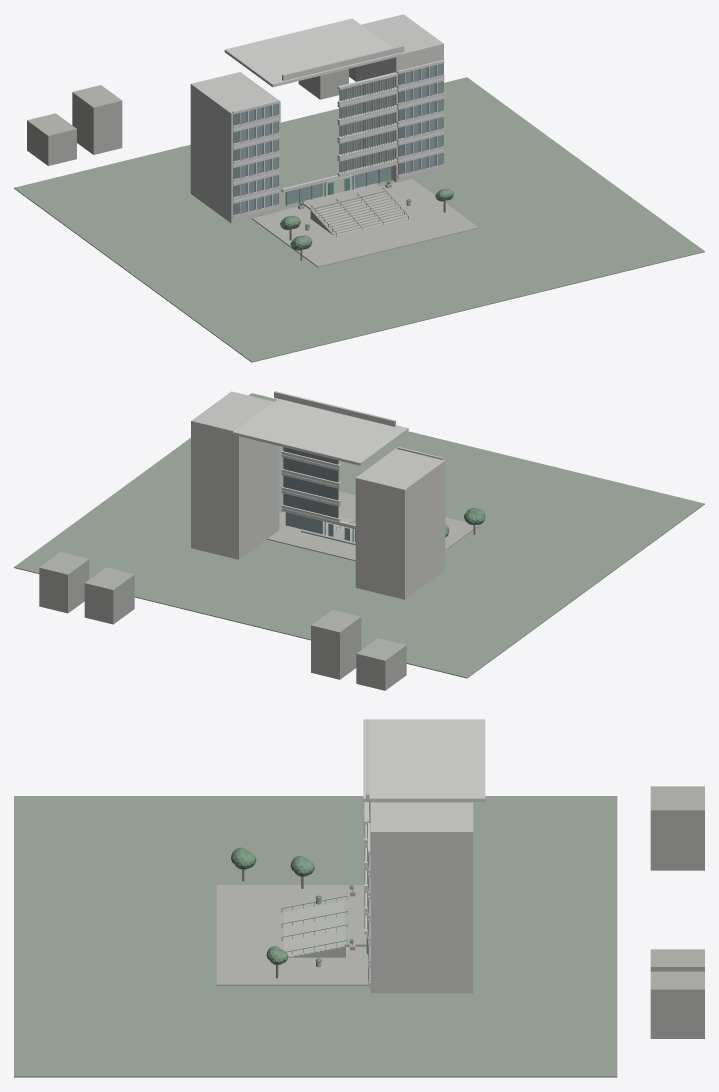
The model's file is chula_exterior_editable_v02.glb.
3 renders of one model, top to bottom at view 1: azimuth 30°, elevation 25°; view 2: azimuth 150°, elevation 25°; view 3: azimuth 270°, elevation 25°, orthographic. The views are drawn at different scales.
Parts seen in each view (by area): view 1: 0001_landscape_ground, 0002_plaza, 0004_west_wing, 0292_main_roof, 0005_east_wing, 0432_distant_campus_building, 0431_distant_campus_building, 0433_distant_campus_building, 0293_front_roof_parapet, 0310_entrance_landing, 0216_tower_recessed_dark_window, 0268_tower_recessed_dark_window (+3 smaller); view 2: 0001_landscape_ground, 0005_east_wing, 0004_west_wing, 0292_main_roof, 0432_distant_campus_building, 0434_distant_campus_building, 0002_plaza, 0433_distant_campus_building, 0431_distant_campus_building, 0293_front_roof_parapet, 0060_tower_recessed_dark_window, 0112_tower_recessed_dark_window (+2 smaller); view 3: 0001_landscape_ground, 0005_east_wing, 0002_plaza, 0292_main_roof, 0432_distant_campus_building, 0434_distant_campus_building, 0433_distant_campus_building, 0310_entrance_landing.
Boxes of the visible parts, x1,y1,x2,y2 form: 0001_landscape_ground: (14,77,704,362); 0002_plaza: (251,179,478,267); 0004_west_wing: (190,72,280,223); 0292_main_roof: (224,18,400,87); 0005_east_wing: (356,14,443,182); 0432_distant_campus_building: (72,85,122,154); 0431_distant_campus_building: (27,113,76,165); 0433_distant_campus_building: (298,69,348,99); 0293_front_roof_parapet: (282,45,404,80); 0310_entrance_landing: (303,183,384,210); 0216_tower_recessed_dark_window: (339,95,394,118); 0268_tower_recessed_dark_window: (339,77,394,100); 0001_landscape_ground: (14,393,704,678); 0005_east_wing: (191,391,279,559); 0004_west_wing: (355,448,445,599); 0292_main_roof: (233,398,408,465); 0432_distant_campus_building: (311,609,361,679); 0434_distant_campus_building: (39,552,89,613); 0002_plaza: (267,491,478,561); 0433_distant_campus_building: (84,567,134,624); 0431_distant_campus_building: (356,638,406,690); 0293_front_roof_parapet: (274,391,395,426); 0060_tower_recessed_dark_window: (283,493,338,518); 0112_tower_recessed_dark_window: (283,475,338,500); 0001_landscape_ground: (14,796,617,1077); 0005_east_wing: (370,802,473,993); 0002_plaza: (216,885,370,985); 0292_main_roof: (363,719,485,801); 0432_distant_campus_building: (650,792,704,870); 0434_distant_campus_building: (650,971,704,1038); 0433_distant_campus_building: (650,949,704,971); 0310_entrance_landing: (344,899,366,946).
Bounding box in the file's own units: 110 × 33.39 × 114.
